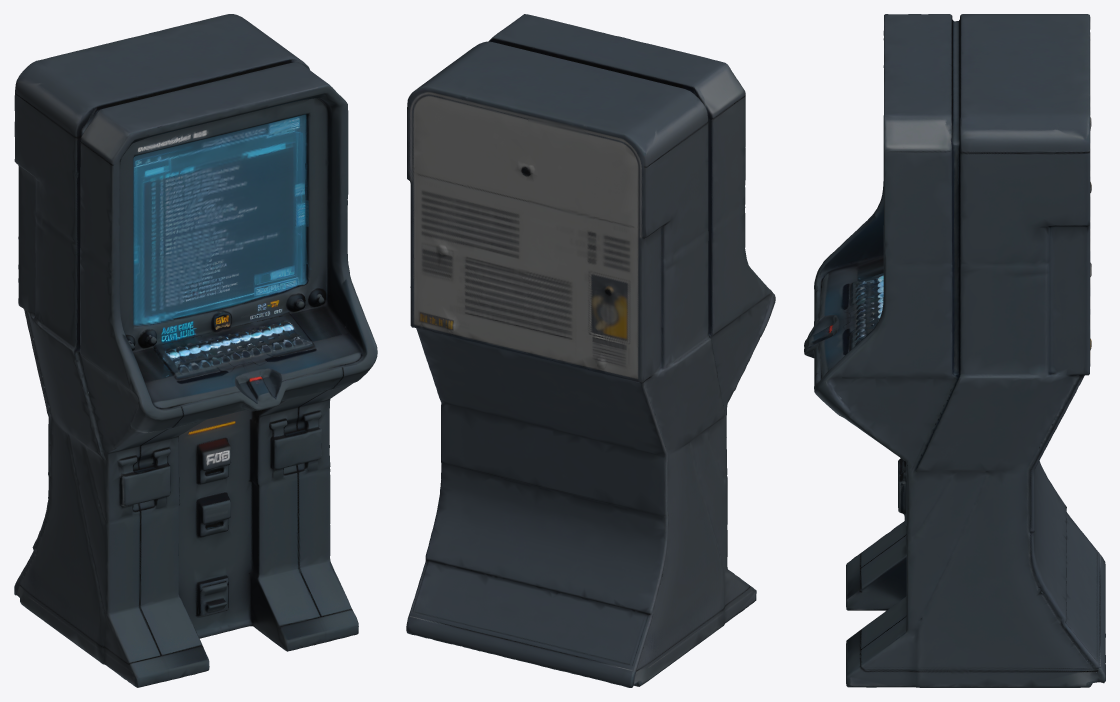
File: terminal.glb
3 renders of one model, left to right at view 1: azimuth 30°, elevation 25°; view 2: azimuth 150°, elevation 25°; view 3: azimuth 270°, elevation 25°, orthographic. The views are drawn at different scales.
Size of the model in its own units: 0.895 by 1.92 by 0.9249.
1 material, 1 textured.
